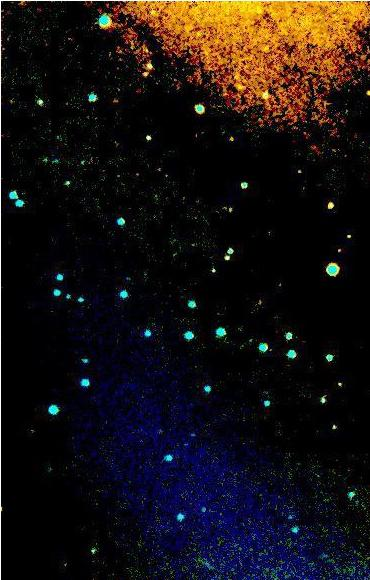star: (50, 547, 80, 577)
